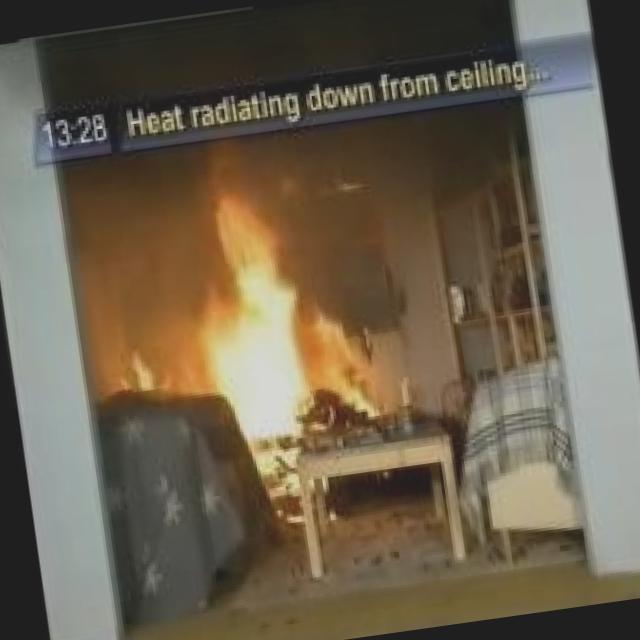fire: (155, 191, 348, 457)
smoke: (44, 0, 518, 113)
